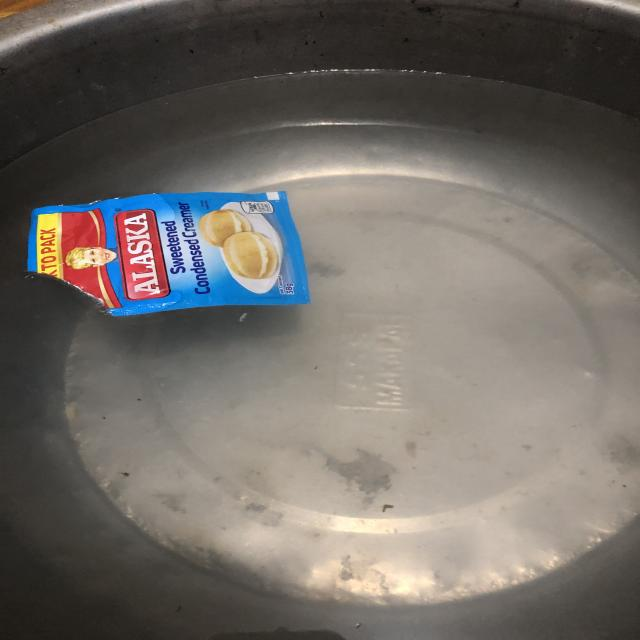Plastic Wrapper: (0, 167, 345, 335)
